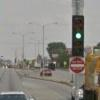Traffic light: (63, 11, 92, 63)
